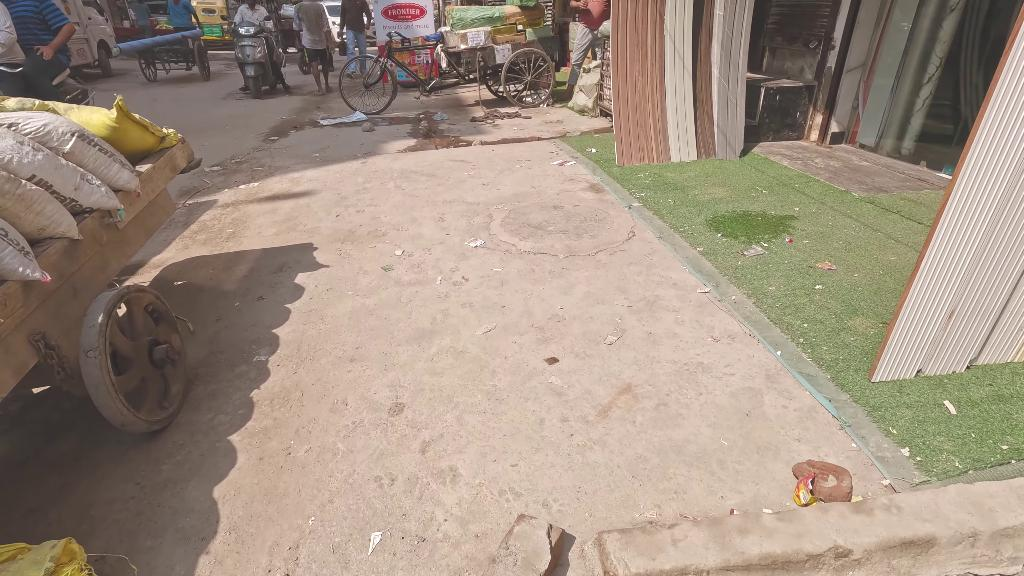garbage: (790, 474, 820, 507), (464, 237, 485, 251)
